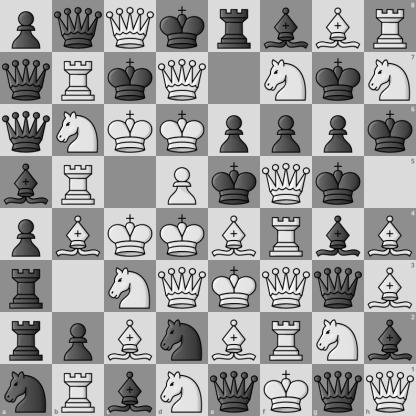B: (364, 260, 416, 312), (364, 209, 416, 260), (53, 209, 104, 260), (105, 313, 156, 364), (209, 209, 260, 260), (209, 313, 260, 364), (313, 1, 364, 52)
K: (260, 364, 312, 416), (105, 105, 156, 156), (105, 209, 156, 260), (157, 105, 208, 156), (157, 209, 208, 260), (209, 261, 260, 312)
N: (156, 364, 209, 416), (364, 52, 416, 104), (53, 105, 104, 156), (105, 261, 156, 312), (261, 53, 312, 104), (313, 313, 364, 364)
P: (157, 157, 208, 208)
Q: (364, 364, 416, 416), (105, 1, 156, 52), (157, 53, 208, 104), (157, 261, 208, 312), (261, 157, 312, 208), (261, 261, 312, 312)
R: (52, 364, 104, 416), (364, 0, 416, 52), (53, 53, 104, 104), (53, 157, 104, 208), (261, 209, 312, 260), (261, 313, 312, 364)
b: (104, 364, 156, 416), (364, 312, 416, 364), (1, 157, 52, 208), (261, 1, 312, 52), (313, 209, 364, 260)
board: (0, 0, 415, 415)
k: (364, 104, 416, 156), (105, 53, 156, 104), (157, 1, 208, 52), (209, 157, 260, 208), (313, 53, 364, 104), (313, 157, 364, 208)
n: (0, 364, 52, 416), (157, 313, 208, 364)
p: (1, 1, 52, 52), (1, 209, 52, 260), (53, 313, 104, 364), (209, 105, 260, 156), (261, 105, 312, 156), (313, 105, 364, 156)
q: (312, 364, 364, 416), (209, 364, 260, 416), (1, 53, 52, 104), (1, 105, 52, 156), (53, 1, 104, 52), (313, 261, 364, 312)
r: (1, 261, 52, 312), (1, 313, 52, 364), (209, 1, 260, 52)
